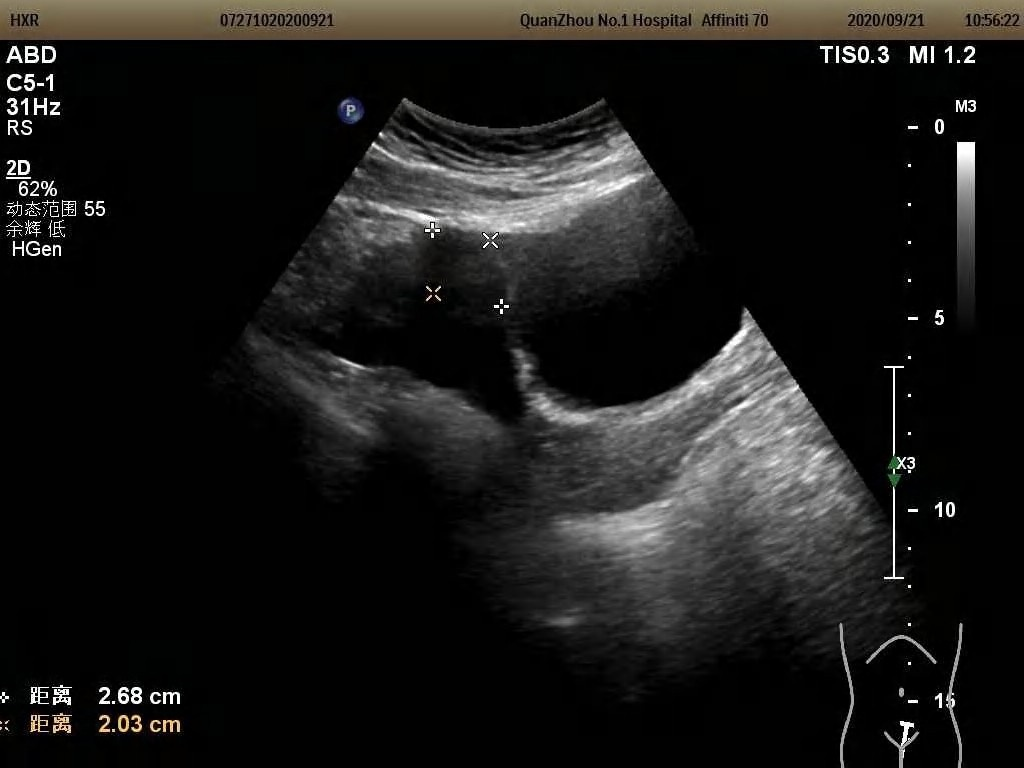肌瘤: (421, 226, 512, 307)
